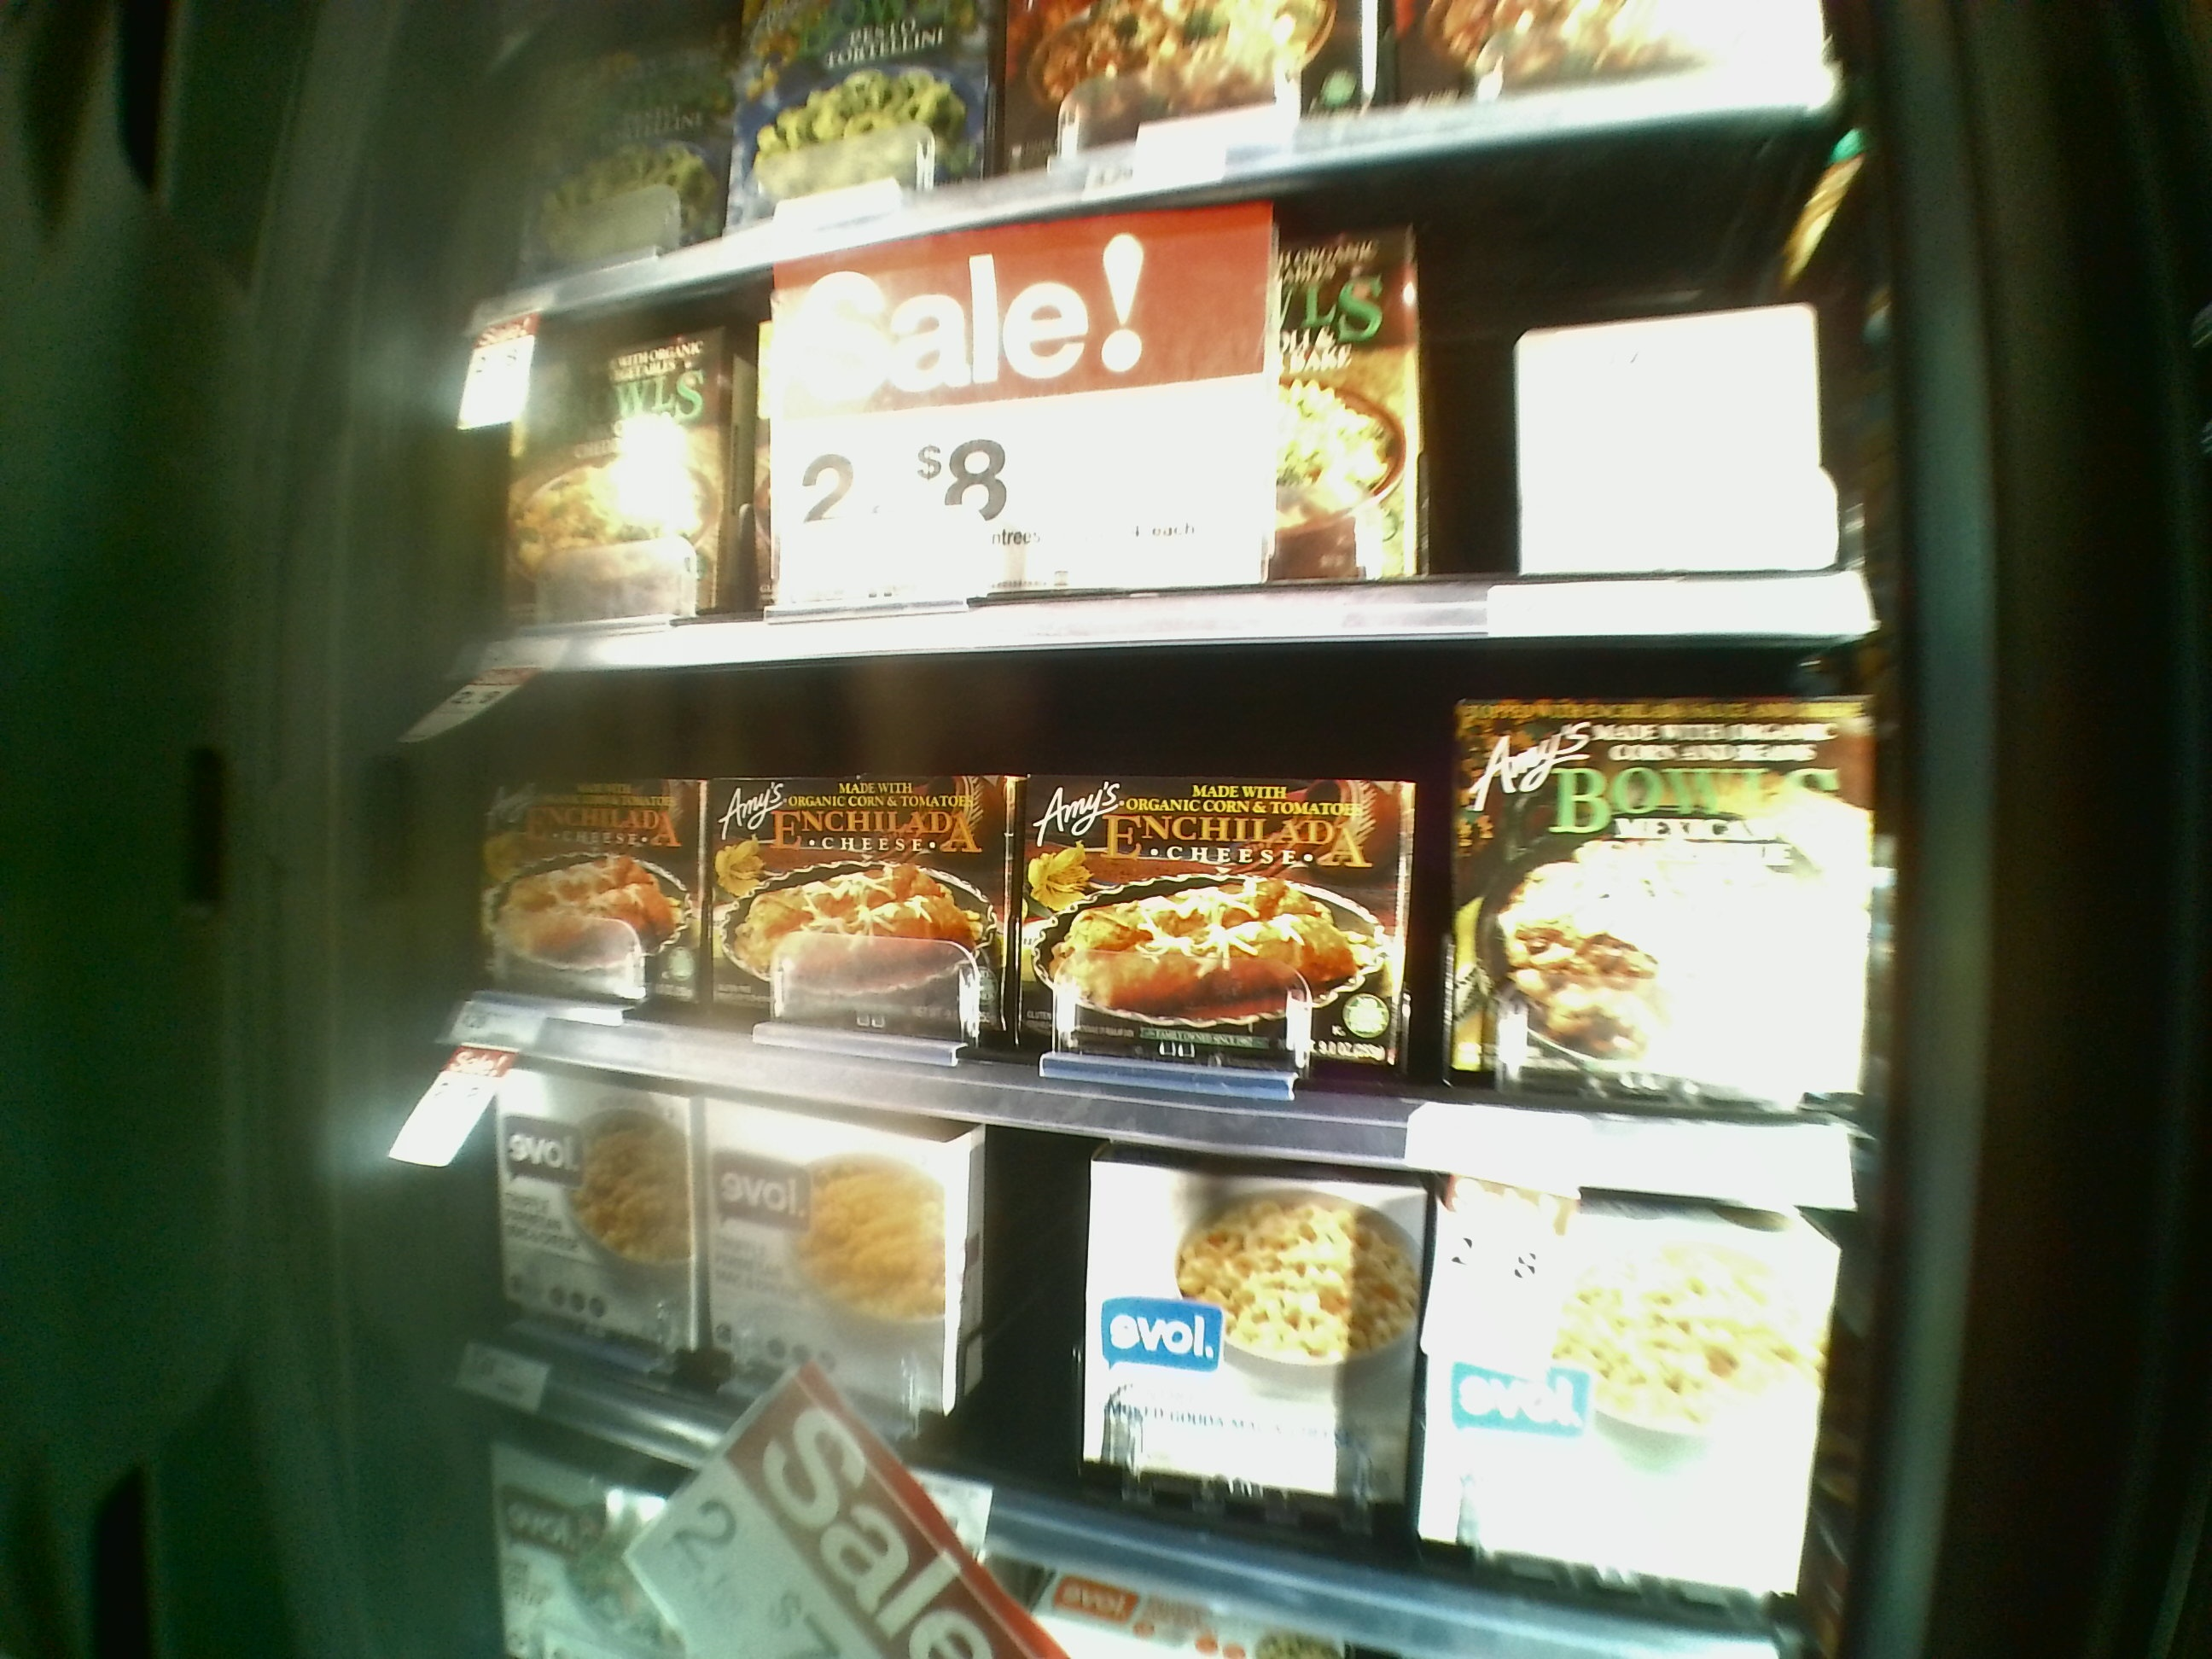shelf: (470, 666, 1885, 1131), (474, 232, 1881, 678), (481, 1126, 1860, 1527)
